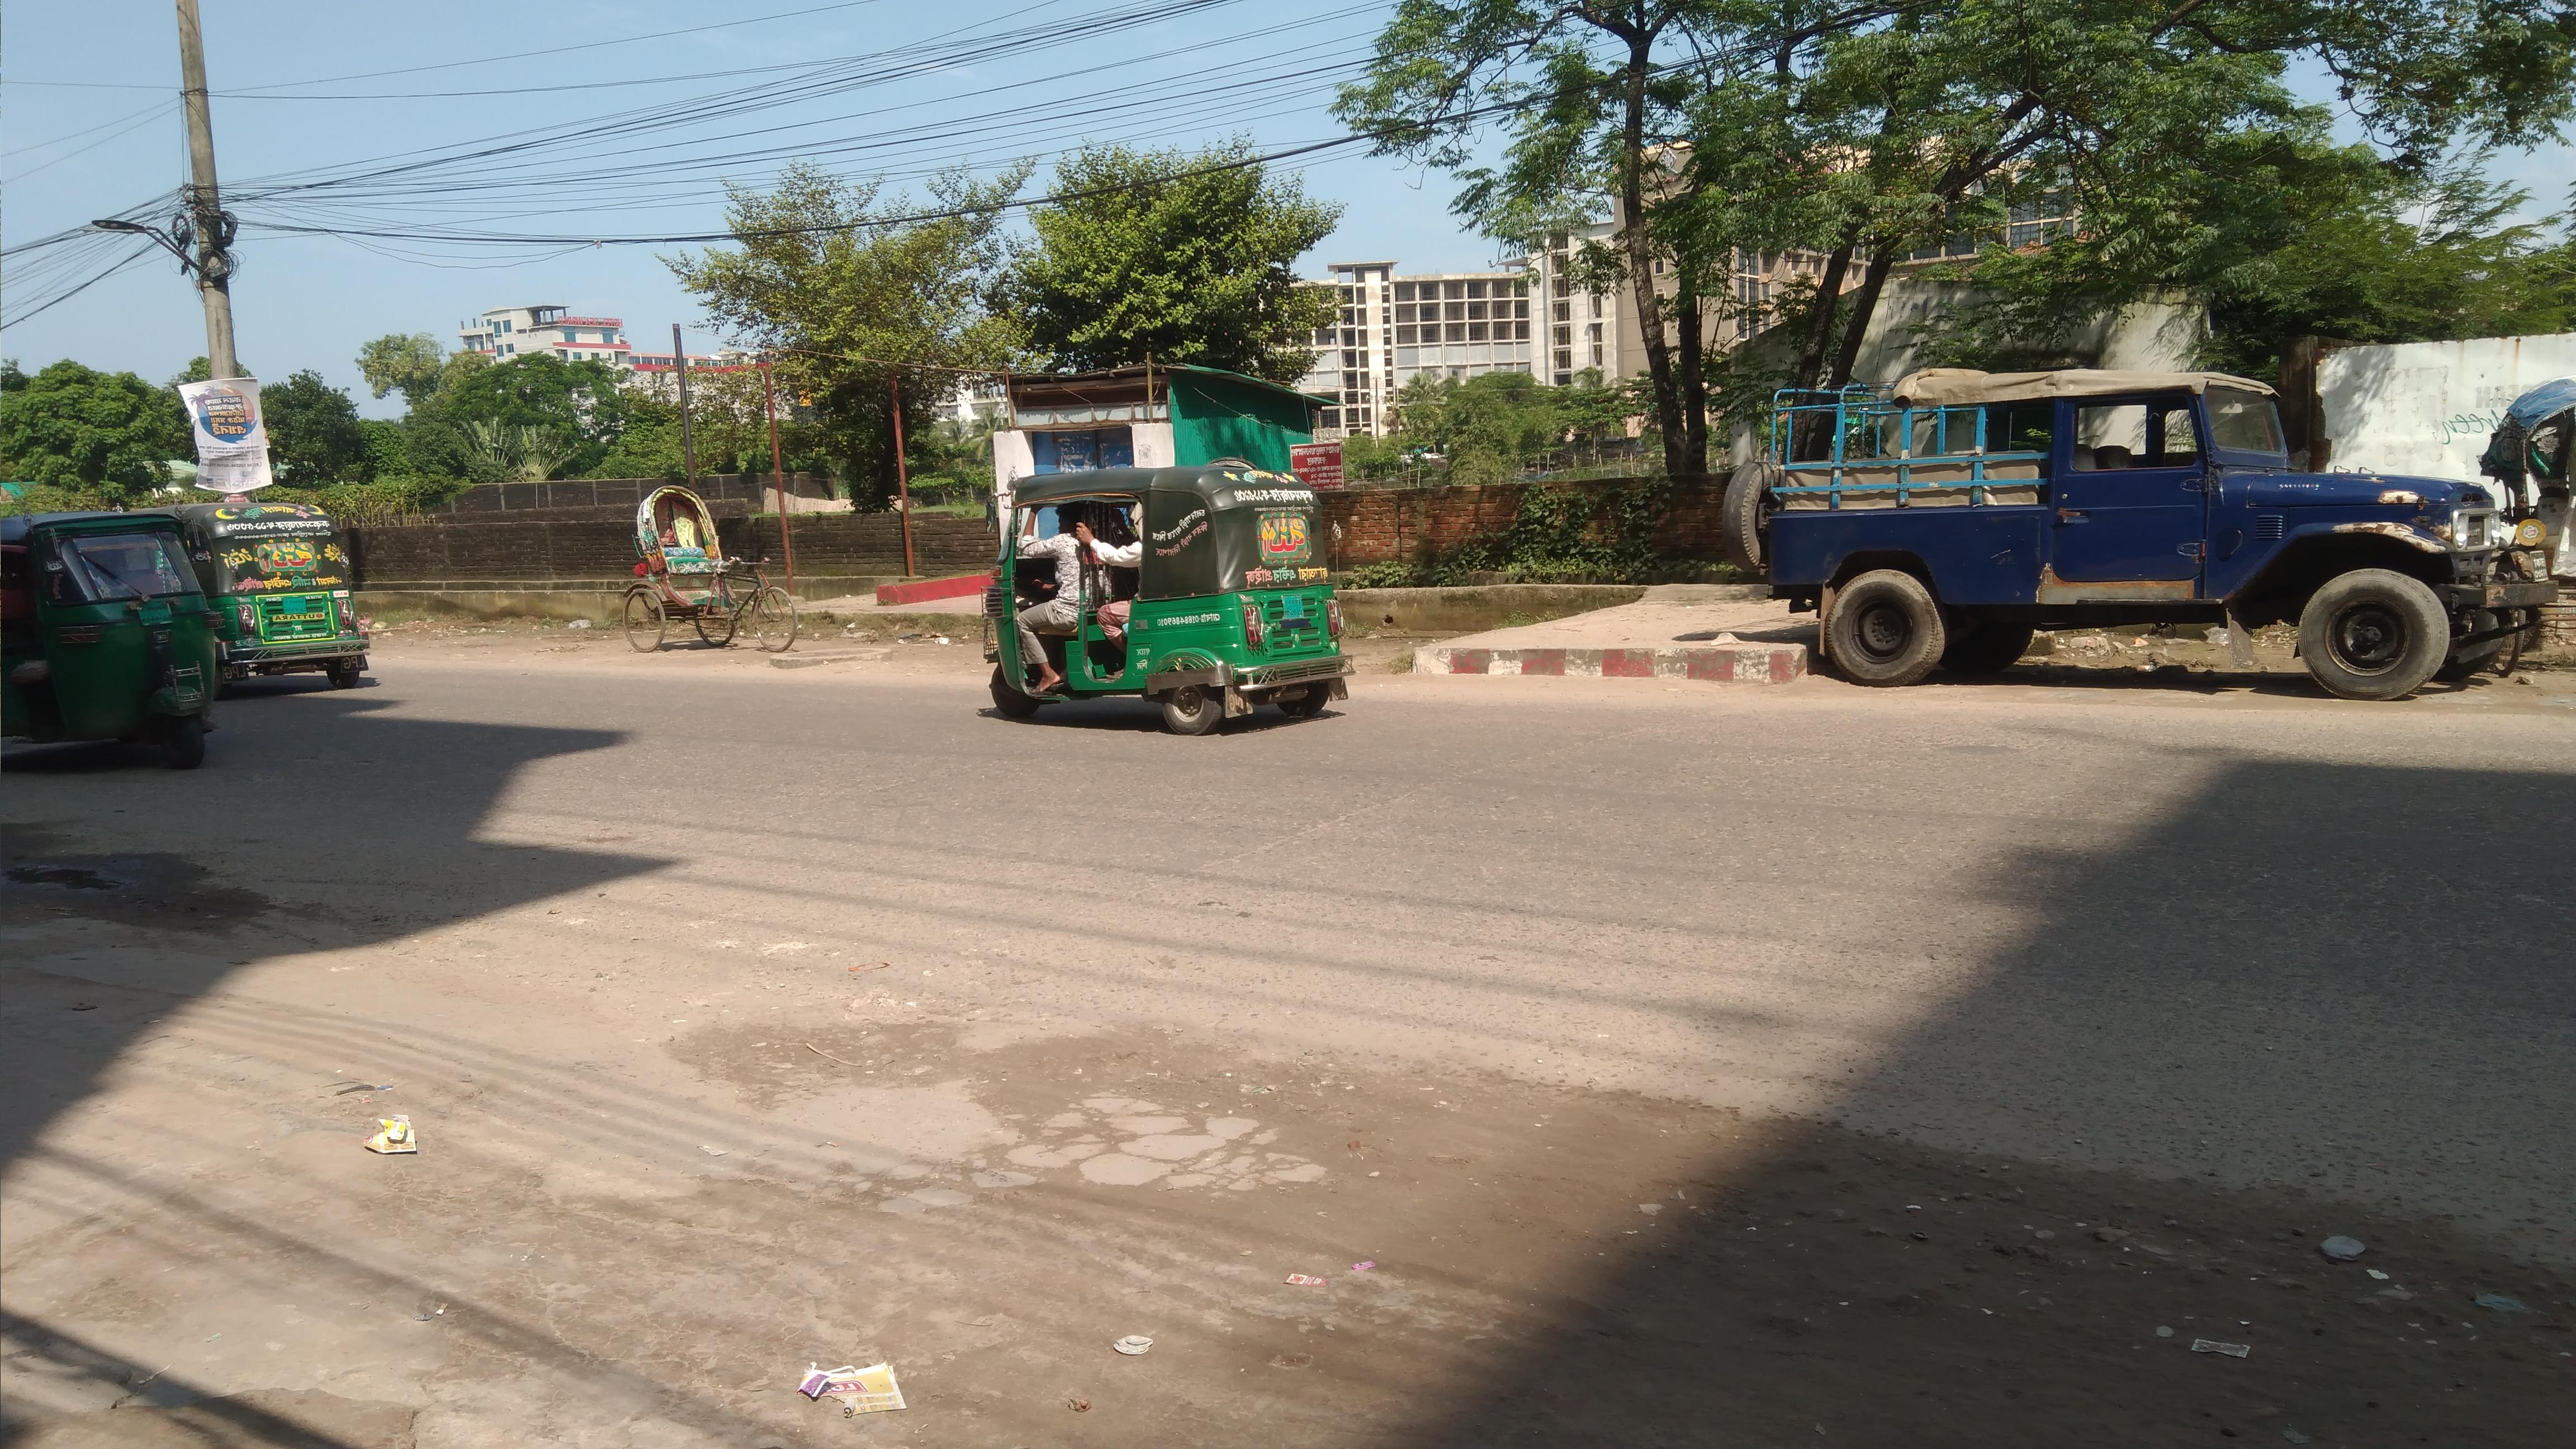car: (1743, 331, 2537, 692)
cng: (959, 449, 1346, 740), (0, 495, 228, 787), (211, 494, 384, 694)
rickshaw: (605, 474, 814, 651)
